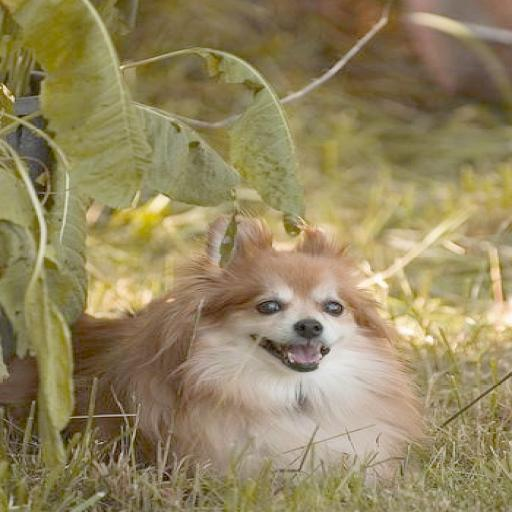dog_face: (221, 224, 388, 381)
